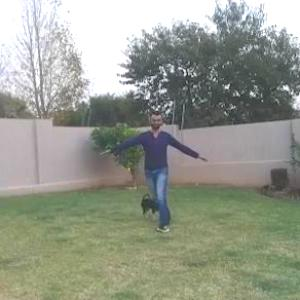land: (101, 116, 199, 231)
